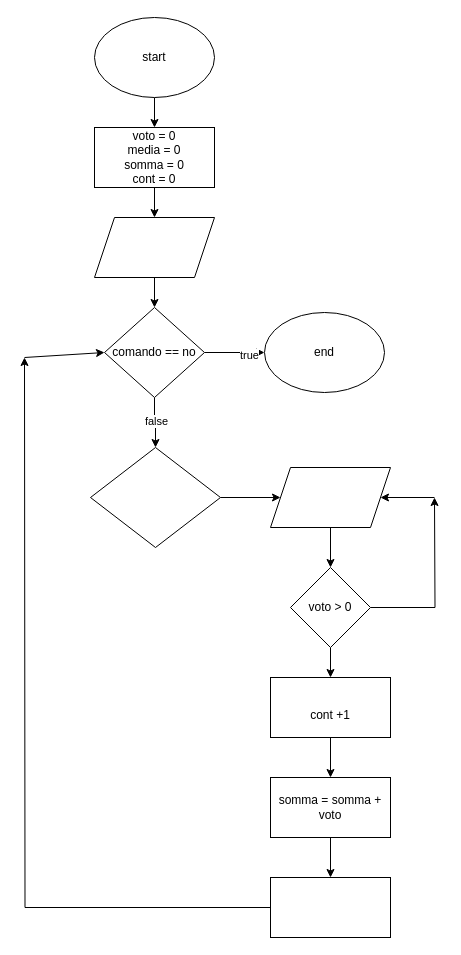
The diagram is 461 pixels wide and 955 high, and some of its shapes have lost their labels. The centre of each missing label's shape, as x and y in pixels:
comando == si: point 155,497
media = somma / cont: point 330,907
read comando: point 154,247
read voto: point 330,497
